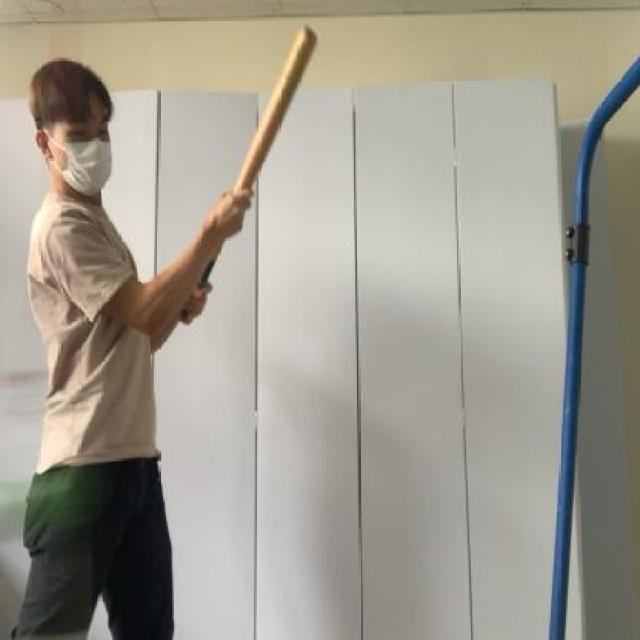baseball: (1, 460, 87, 545)
